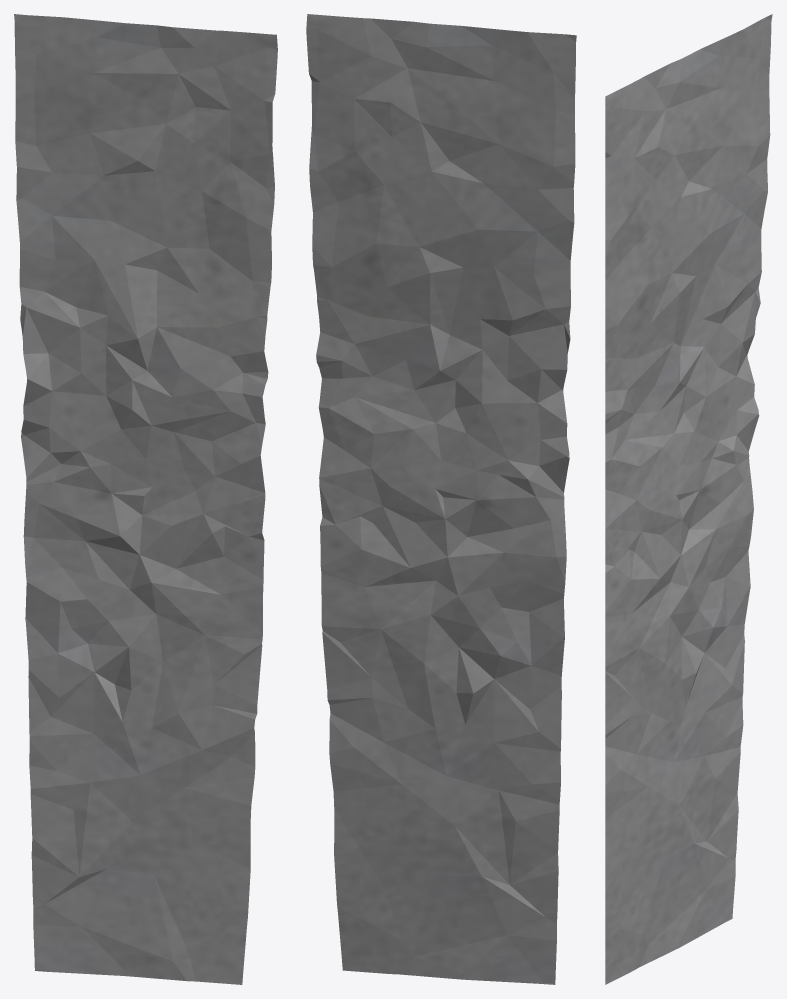
The picture shows the model from 3 angles, left to right: view 1: azimuth 30°, elevation 25°; view 2: azimuth 210°, elevation 25°; view 3: azimuth 270°, elevation 25°; orthographic projection. The views are drawn at different scales.
Bounding box in the file's own units: 0.1646 × 0.8374 × 0.1403.
1 material, 1 textured.
